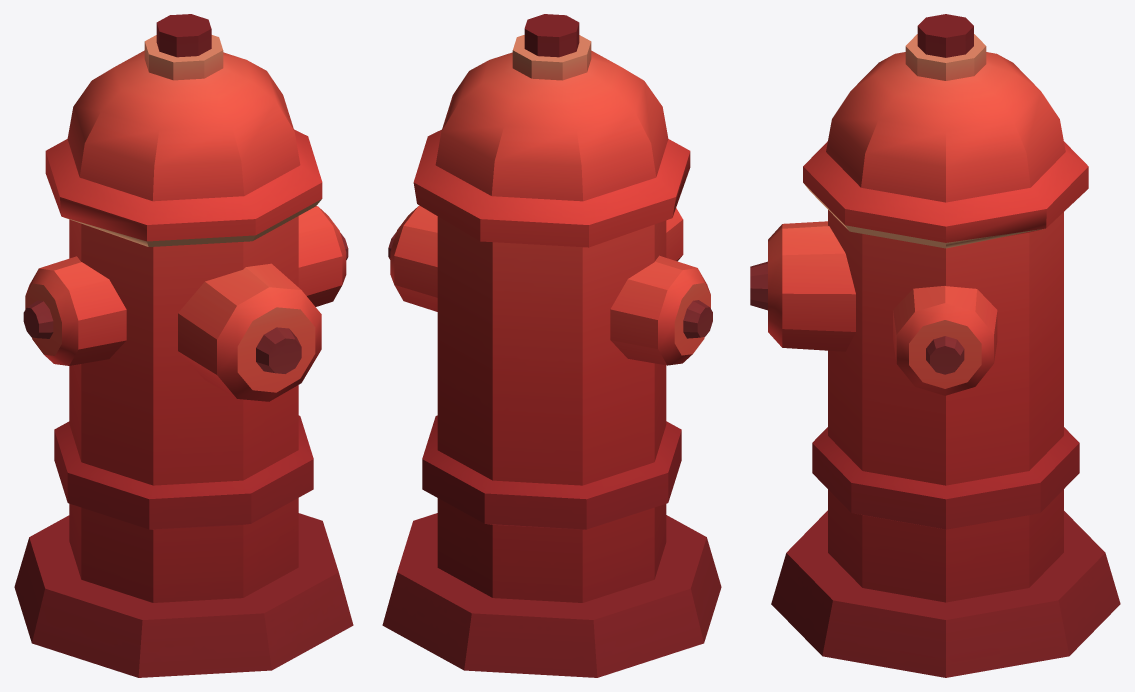
Rendered from SM_Fire_hydrant.fbx.
3 views of the same model, side by side, from view 1: azimuth 30°, elevation 25°; view 2: azimuth 150°, elevation 25°; view 3: azimuth 270°, elevation 25° (orthographic).
Visible parts, largest first — view 1: SM_Fire_hydrant; view 2: SM_Fire_hydrant; view 3: SM_Fire_hydrant.
Boxes of the visible parts, x1,y1,x2,y2 form: SM_Fire_hydrant: [14, 14, 353, 677]; SM_Fire_hydrant: [382, 14, 721, 677]; SM_Fire_hydrant: [750, 14, 1120, 677].
Bounding box in the file's own units: 71.02 × 127 × 73.96.
